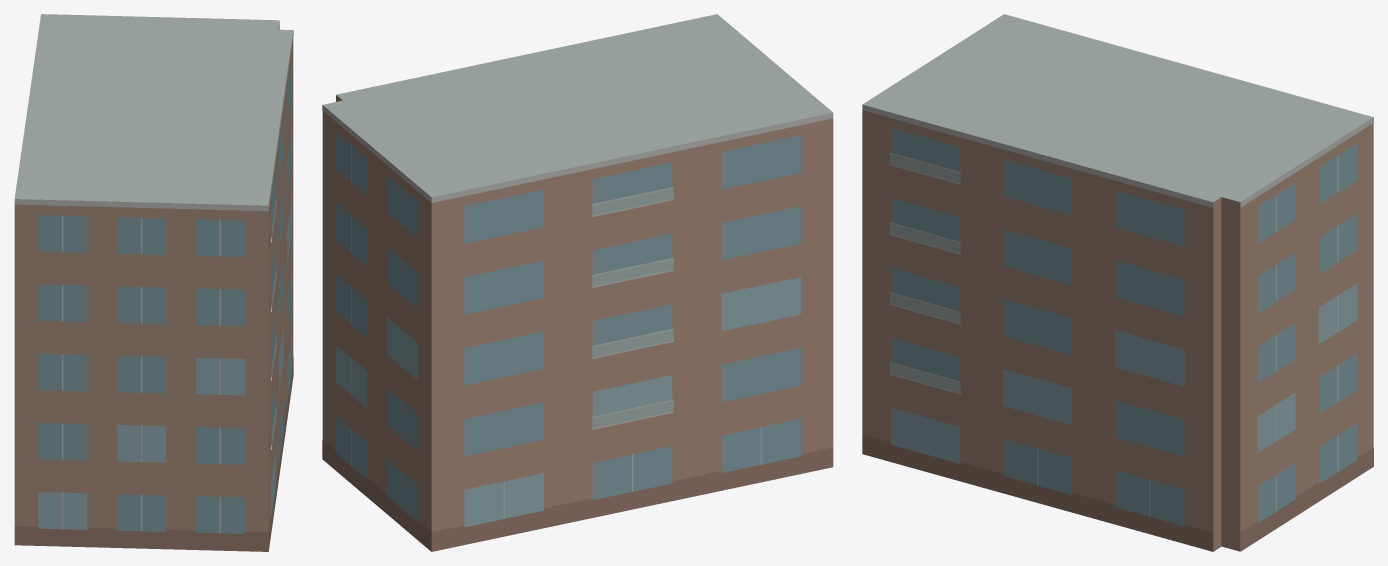
File: survey-upis-32954929.glb
The picture shows the model from 3 angles, left to right: view 1: azimuth 30°, elevation 25°; view 2: azimuth 150°, elevation 25°; view 3: azimuth 270°, elevation 25°; orthographic projection. The views are drawn at different scales.
Parts seen in each view (by area): view 1: survey-upis-32954929.tmp; view 2: survey-upis-32954929.tmp; view 3: survey-upis-32954929.tmp.
Boxes of the visible parts, box(x1,y1,x2,y2) form: survey-upis-32954929.tmp: box(14, 14, 293, 551); survey-upis-32954929.tmp: box(322, 14, 833, 551); survey-upis-32954929.tmp: box(862, 14, 1373, 551).
Size of the model in its own units: 17.64 by 15.25 by 20.23.
